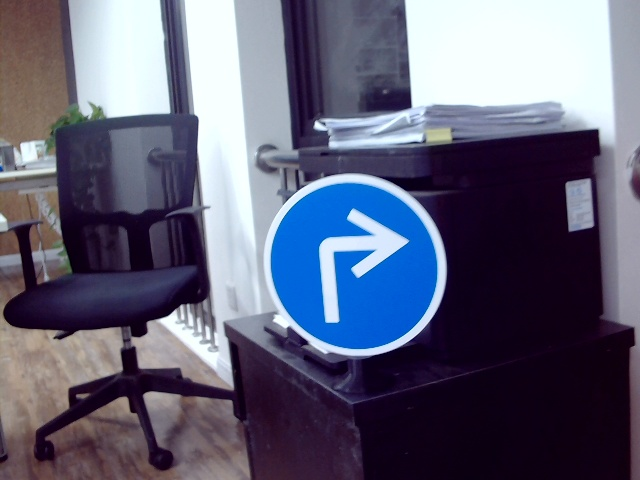turn_right: (307, 207, 405, 323)
